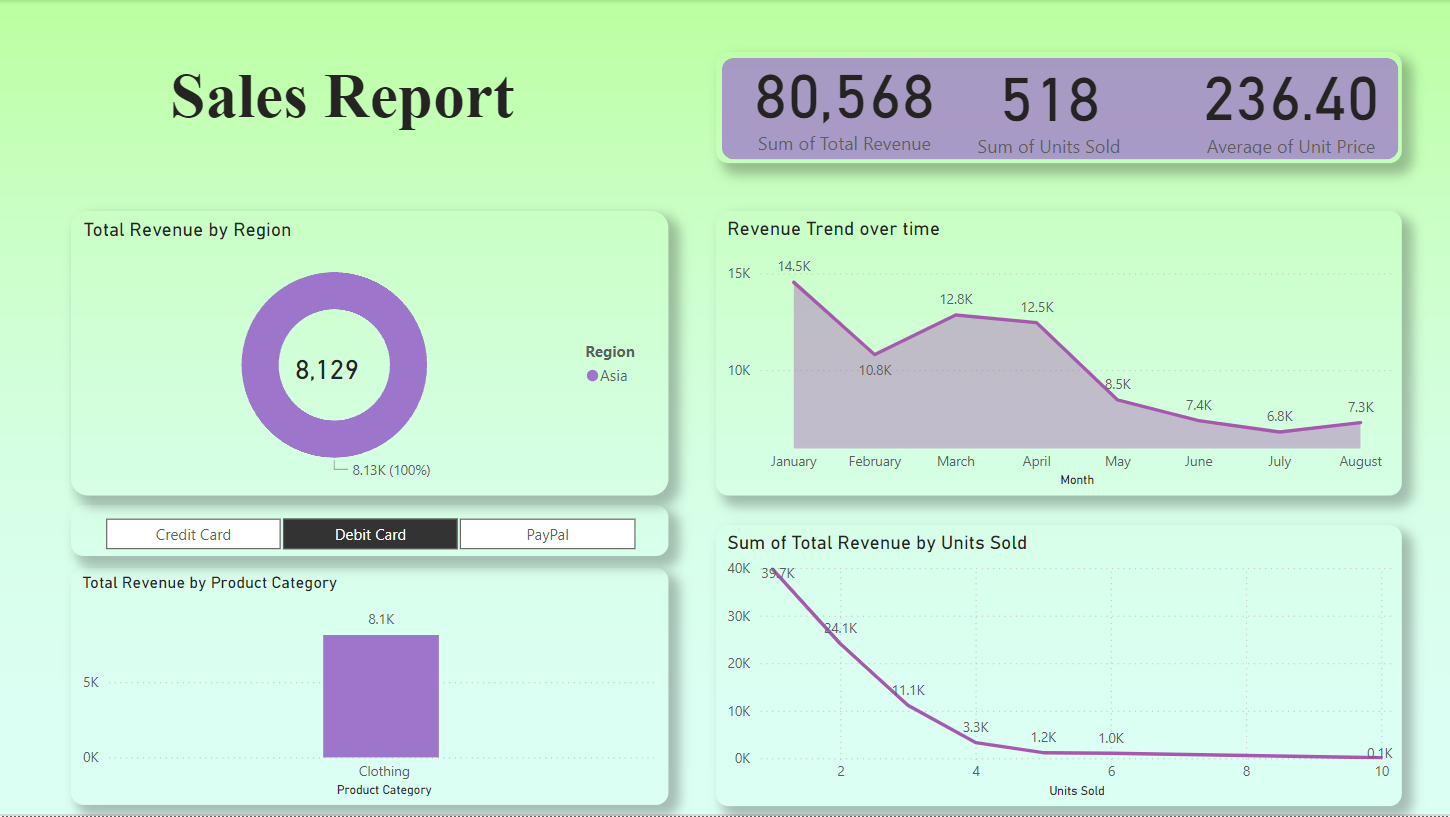

Layout of this report page (visuals, bound fields, positions):
{"tool":"powerbi","page":{"name":"Page 1","canvas":[1280,720],"ordinal":0},"visuals":[{"type":"donutChart","title":"Total Revenue by Region","fields":{"Y":["Sum(Online Sales Data.Total Revenue)"],"Category":["Online Sales Data.Region"]},"box":[63.1,200.4,527.1,250.2],"z":0},{"type":"shape","box":[632.5,45.9,605.2,97.9],"z":1000},{"type":"slicer","fields":{"Values":["Online Sales Data.Payment Method"]},"box":[63.1,456.6,527.1,44.9],"z":2000},{"type":"card","fields":{"Values":["Sum(Online Sales Data.Total Revenue)"]},"box":[235.5,294.6,93.5,87.3],"z":3000},{"type":"textbox","box":[52.2,47.4,501.6,97.2],"z":4000},{"type":"card","fields":{"Values":["Sum(Online Sales Data.Total Revenue)"]},"box":[632.5,34.4,195.8,107.6],"z":5000},{"type":"lineChart","fields":{"Category":["Online Sales Data.Units Sold"],"Y":["Sum(Online Sales Data.Total Revenue)"]},"box":[632.7,462.7,604.8,247.7],"z":6000},{"type":"card","fields":{"Values":["Sum(Online Sales Data.Units Sold)"]},"box":[828.3,37.1,195.8,107.6],"z":7000},{"type":"card","fields":{"Values":["Avg(Online Sales Data.Unit Price)"]},"box":[1041.8,38.8,195.8,103.2],"z":8000},{"type":"areaChart","title":"Revenue Trend over time","fields":{"Category":["Online Sales Data.Date.Variation.Date Hierarchy.Month"],"Y":["Sum(Online Sales Data.Total Revenue)"]},"box":[632.7,200.4,604.8,250.2],"z":9000},{"type":"clusteredColumnChart","title":"Total Revenue by Product Category","fields":{"Category":["Online Sales Data.Product Category"],"Y":["Sum(Online Sales Data.Total Revenue)"]},"box":[63.1,511.3,527.1,199.2],"z":10000}]}

Visuals, with their boxes in screenshot pixels (x1, y1, x2, y2), scaled from the page's 1280x720 canvas onto the 1450x817 screenshot:
"Total Revenue by Region" donutChart: box=[71, 227, 669, 511]
shape: box=[717, 52, 1402, 163]
slicer - Online Sales Data.Payment Method: box=[71, 518, 669, 569]
card - Sum(Online Sales Data.Total Revenue): box=[267, 334, 373, 433]
textbox: box=[59, 54, 627, 164]
card - Sum(Online Sales Data.Total Revenue): box=[717, 39, 938, 161]
lineChart - Online Sales Data.Units Sold x Sum(Online Sales Data.Total Revenue): box=[717, 525, 1402, 806]
card - Sum(Online Sales Data.Units Sold): box=[938, 42, 1160, 164]
card - Avg(Online Sales Data.Unit Price): box=[1180, 44, 1402, 161]
"Revenue Trend over time" areaChart: box=[717, 227, 1402, 511]
"Total Revenue by Product Category" clusteredColumnChart: box=[71, 580, 669, 806]
